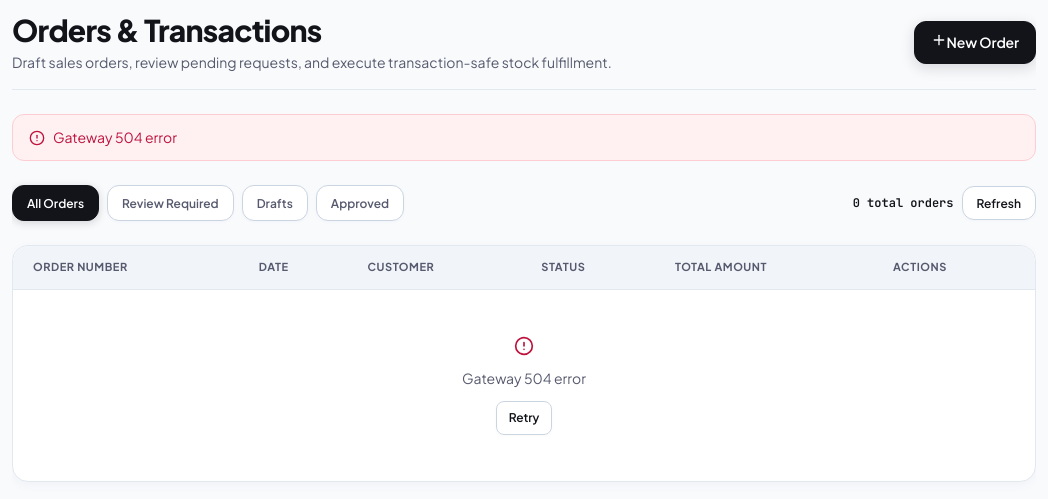
Scenario: Phase 3 Operations Frontend Components › Operations Layout, Loading States, and Error Recovery Regression Suite › OrdersPage handles error state with safe in-table retry button
Trigger retry
Click the button "Retry" at (524, 418), box top-left (496, 401), bottom-right (552, 435)
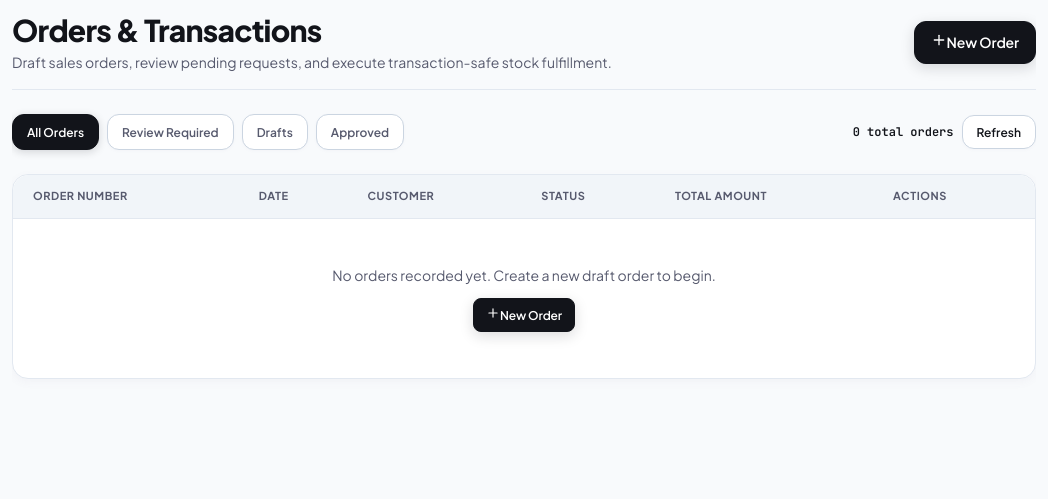
Result: the text "No orders recorded yet. Create a new draft order to begin." is shown at top-left (332, 265), bottom-right (716, 286)
